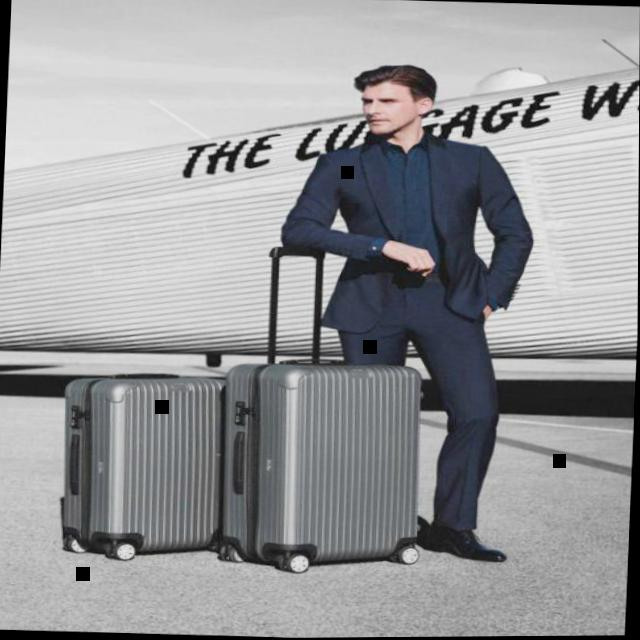luggage: (215, 354, 430, 575), (53, 369, 234, 563)
